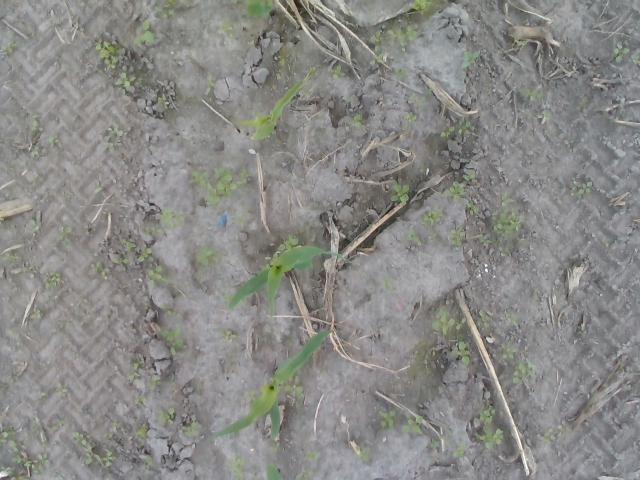Maize: (208, 327, 328, 442), (229, 234, 347, 318), (238, 78, 306, 141), (242, 0, 277, 18), (263, 460, 284, 480)
Weeds: (0, 424, 48, 480), (191, 165, 254, 205), (73, 430, 119, 468), (372, 18, 418, 54), (142, 207, 190, 240), (474, 404, 505, 450), (94, 39, 120, 79), (431, 306, 465, 336), (488, 208, 522, 238), (159, 324, 189, 354), (96, 126, 126, 150), (614, 40, 640, 67), (145, 265, 172, 288), (193, 245, 219, 268), (135, 19, 157, 46), (512, 360, 534, 386), (284, 376, 306, 400), (400, 414, 426, 434), (230, 453, 248, 480), (0, 30, 18, 56), (154, 0, 176, 21), (420, 206, 444, 225), (126, 359, 144, 384), (377, 407, 398, 428), (181, 421, 204, 440), (456, 338, 471, 366), (448, 224, 466, 247), (404, 223, 422, 246), (448, 180, 467, 201), (408, 0, 434, 15), (93, 260, 112, 280), (134, 422, 148, 449), (295, 464, 318, 480), (278, 234, 298, 252), (115, 71, 130, 95), (462, 50, 480, 70), (544, 424, 562, 444), (390, 184, 410, 202), (159, 406, 176, 426), (302, 446, 320, 464), (233, 205, 250, 224), (480, 232, 500, 248), (136, 246, 154, 263), (500, 342, 517, 360), (159, 302, 178, 318), (44, 271, 60, 289), (30, 111, 42, 135), (48, 416, 66, 432), (576, 181, 593, 197), (528, 109, 552, 120), (56, 226, 72, 242), (330, 64, 346, 80), (354, 448, 370, 464), (216, 20, 234, 34), (146, 375, 162, 390), (223, 328, 238, 344), (368, 47, 383, 63), (519, 88, 543, 98), (457, 119, 472, 134), (306, 64, 320, 80), (451, 443, 464, 460), (351, 112, 364, 128), (0, 252, 17, 264), (382, 276, 393, 294), (56, 384, 70, 398), (121, 238, 136, 251), (112, 255, 128, 267), (500, 192, 512, 208), (462, 170, 476, 183), (206, 73, 216, 91), (404, 111, 417, 124), (244, 390, 258, 402), (440, 125, 454, 137), (467, 201, 479, 215), (272, 54, 288, 64), (394, 67, 406, 80), (30, 144, 40, 159), (30, 308, 42, 320), (478, 311, 487, 327), (144, 456, 154, 470), (408, 92, 420, 103), (563, 138, 576, 148), (431, 438, 442, 449), (158, 96, 170, 106), (514, 40, 529, 48), (428, 345, 438, 357), (32, 218, 40, 232), (134, 395, 145, 405), (48, 135, 59, 145), (116, 151, 128, 160), (578, 98, 588, 108), (94, 184, 100, 200), (424, 85, 432, 96), (428, 232, 436, 243), (21, 266, 32, 273), (111, 420, 120, 428), (510, 319, 518, 327), (343, 96, 352, 102), (576, 329, 583, 336), (32, 416, 38, 424), (250, 133, 256, 140)
